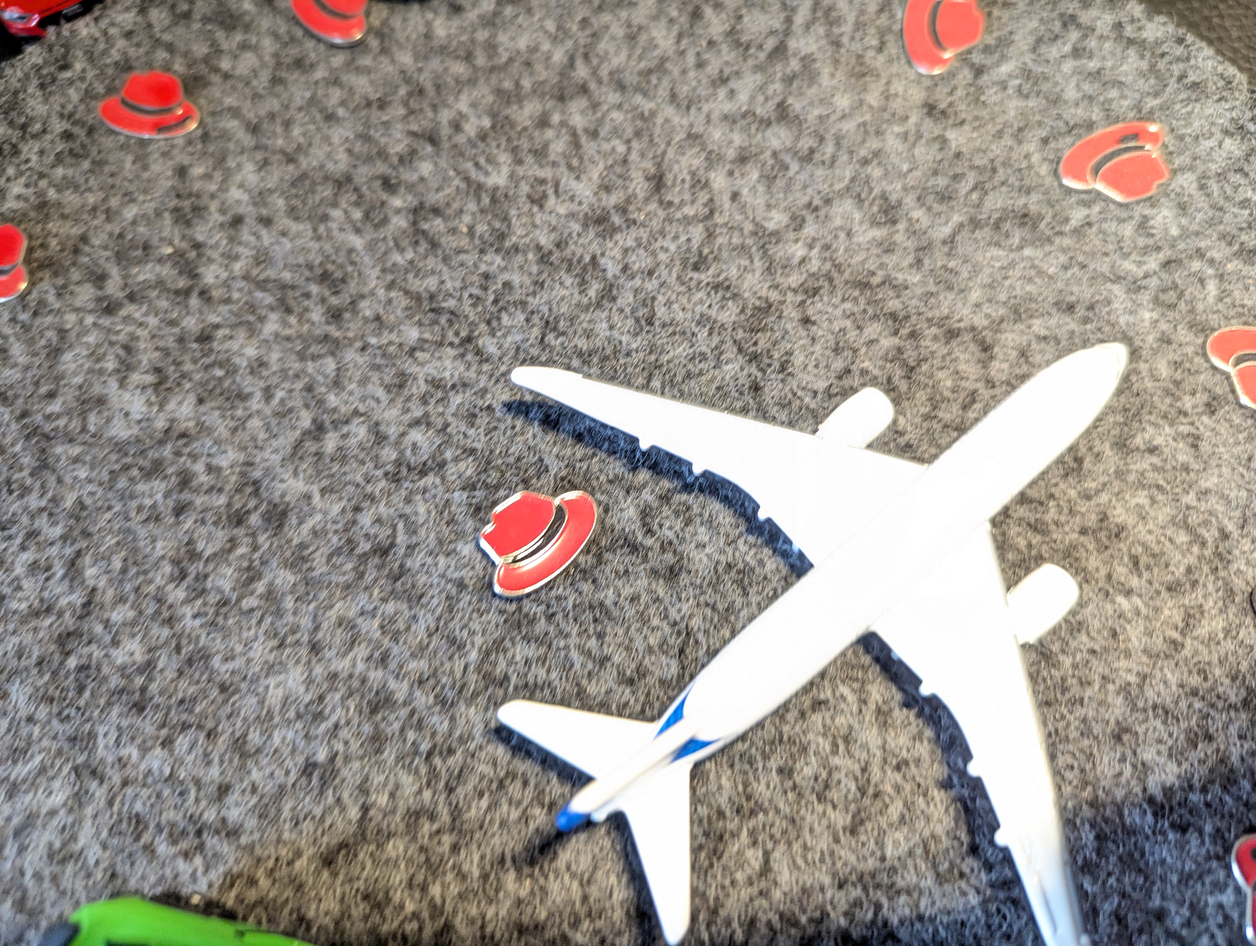Airplane: (462, 284, 1183, 946)
Red-Hat: (1044, 92, 1200, 241), (456, 476, 603, 621), (84, 57, 212, 170), (897, 0, 1005, 85), (1196, 312, 1256, 430), (278, 0, 391, 52)
Scratch: (143, 109, 203, 143), (1101, 118, 1149, 156)
